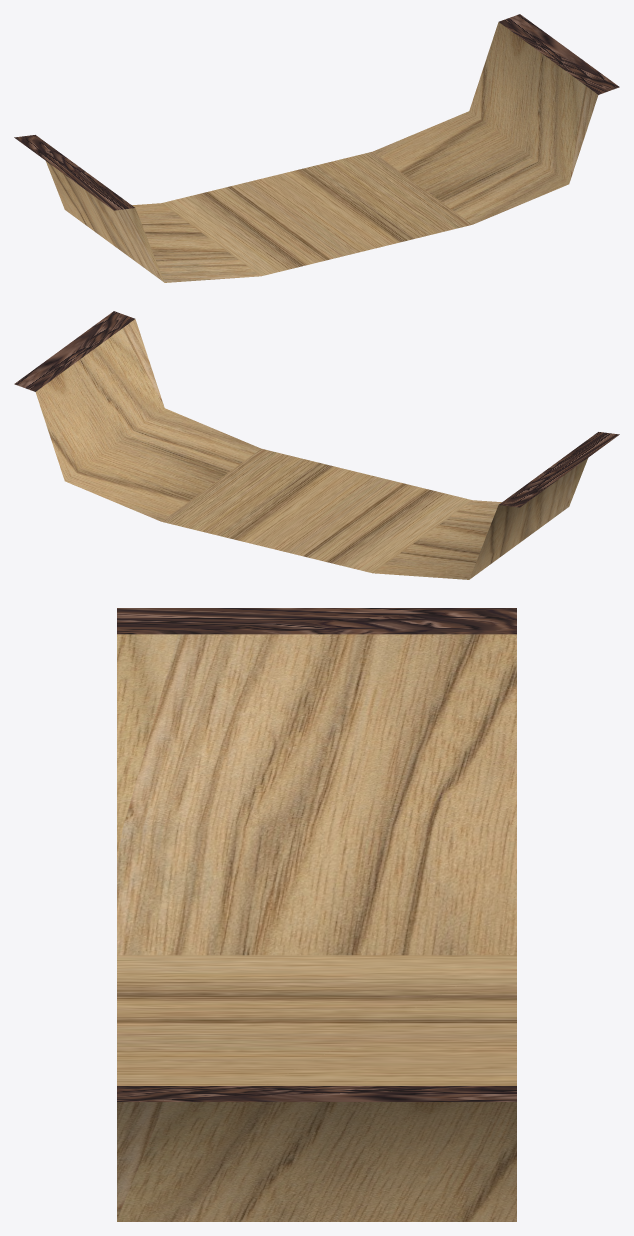
Rendered from Oniscidea_Plane_PlatformV2.fbx.
3 renders of one model, top to bottom at view 1: azimuth 30°, elevation 25°; view 2: azimuth 150°, elevation 25°; view 3: azimuth 270°, elevation 25°, orthographic. The views are drawn at different scales.
Visible parts, largest first — view 1: Oniscidea_Plane_Platform; view 2: Oniscidea_Plane_Platform; view 3: Oniscidea_Plane_Platform.
Part boxes in pixels (x1,y1,x2,y2): Oniscidea_Plane_Platform: [14, 14, 619, 282]; Oniscidea_Plane_Platform: [14, 311, 619, 579]; Oniscidea_Plane_Platform: [117, 608, 516, 1221].
Size of the model in its own units: 30.37 by 5.83 by 10.39.
